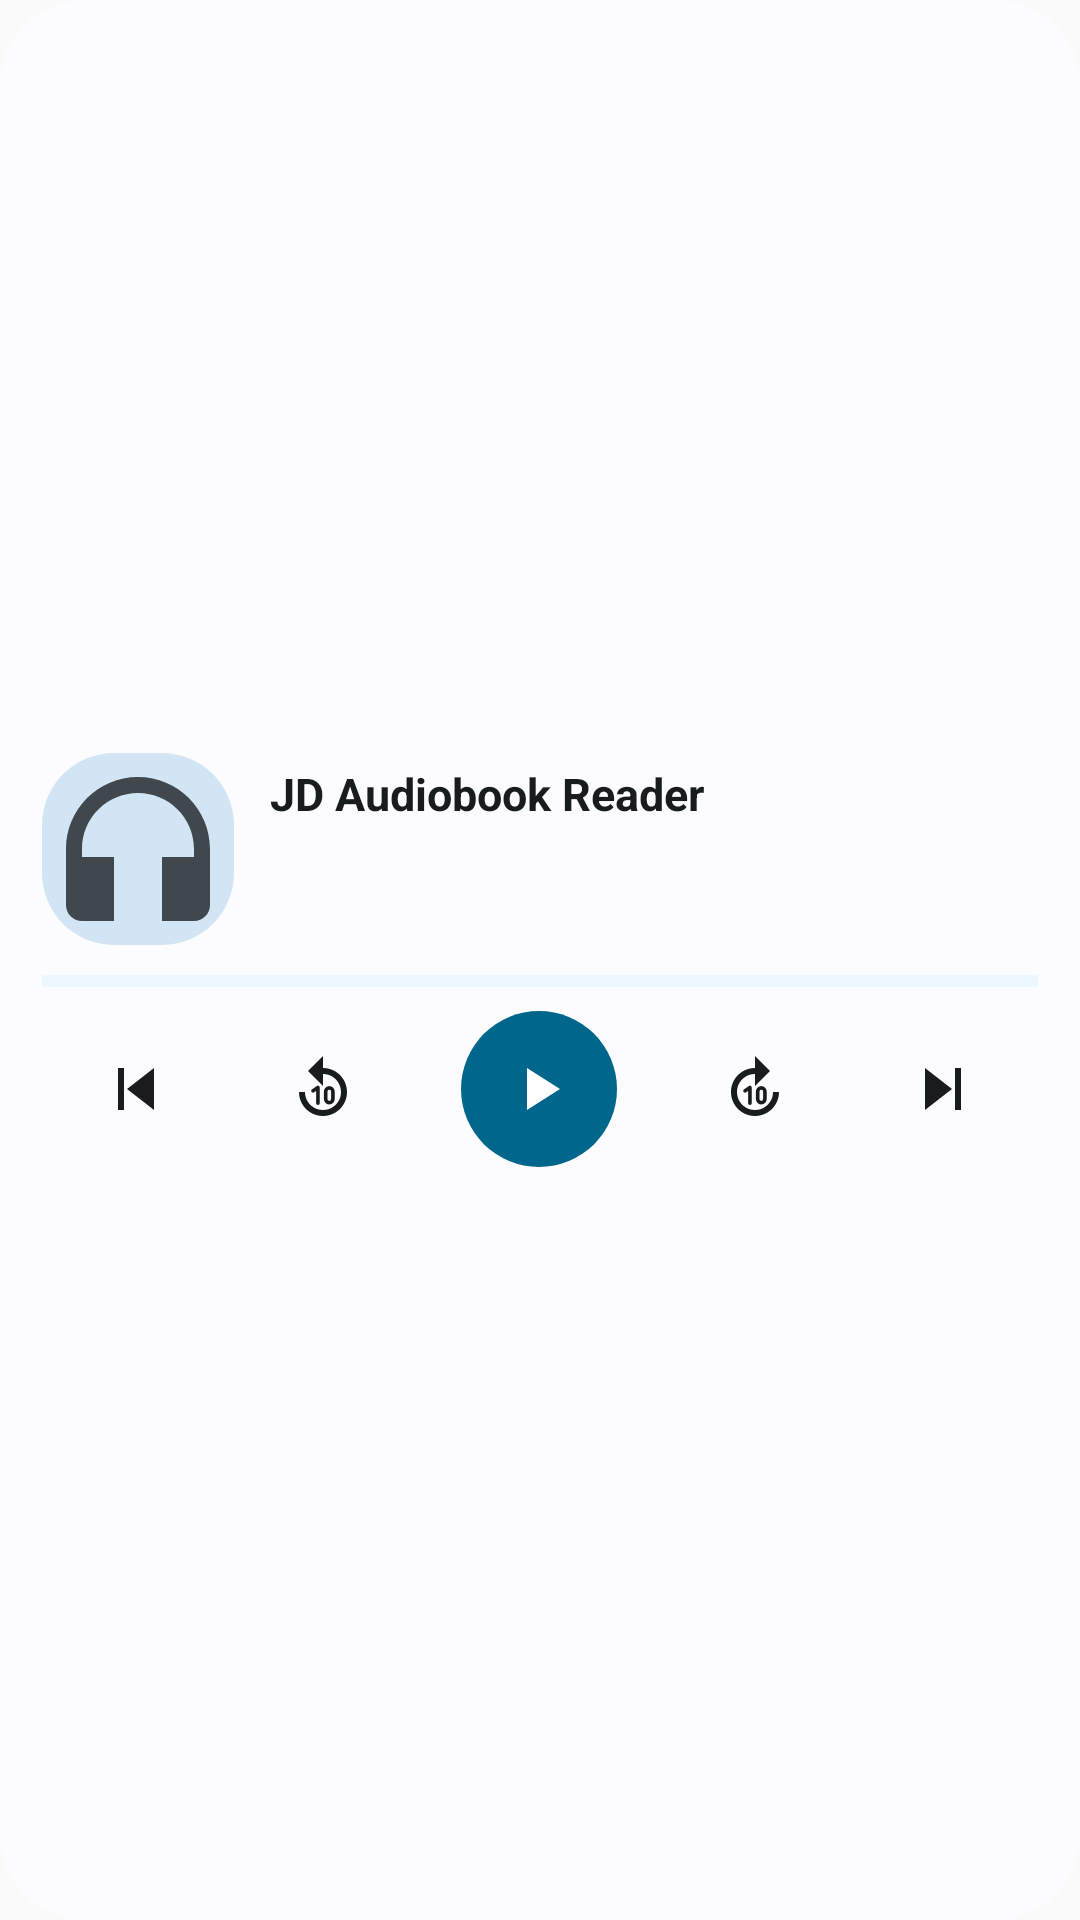

Icon bounding boxes for this 1080×1920 phone screenshot, format (x1, y1, x2, y2):
Back 10 seconds: (299, 1056, 347, 1116)
Forward 10 seconds: (731, 1056, 779, 1116)
Next: (925, 1068, 961, 1110)
Play: (461, 1011, 617, 1167)
Previous: (118, 1068, 154, 1110)
